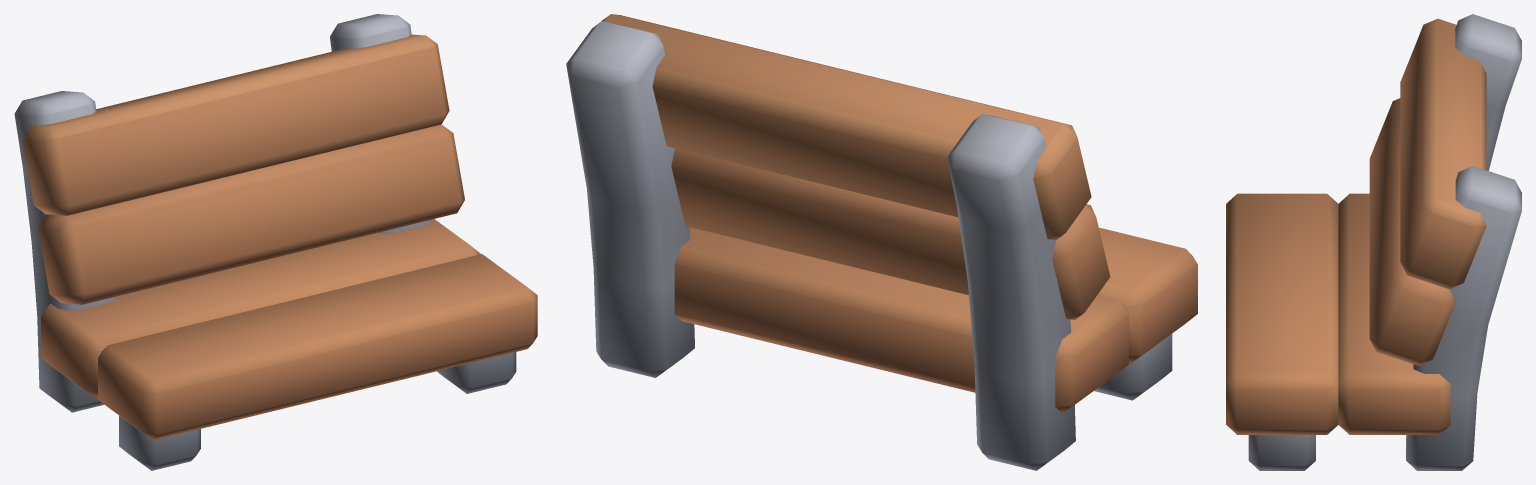
The model's file is prop_park_bench.glb.
3 views of the same model, side by side, from view 1: azimuth 30°, elevation 25°; view 2: azimuth 150°, elevation 25°; view 3: azimuth 270°, elevation 25° (orthographic). The views are drawn at different scales.
Parts seen in each view (by area): view 1: bench; view 2: bench; view 3: bench.
Part boxes in pixels (x1,y1,x2,y2): bench: (14, 14, 537, 470); bench: (566, 14, 1197, 470); bench: (1226, 14, 1521, 470).
Bounding box in the file's own units: 2 × 1.41 × 1.32.
Materials: 1 (1 with a texture image).
